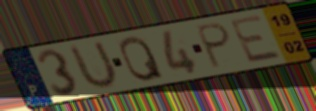3: (37, 47, 80, 97)
4: (161, 28, 200, 76)
E: (227, 13, 285, 65)
P: (194, 21, 233, 71)
Q: (118, 34, 167, 83)
U: (68, 38, 120, 92)
